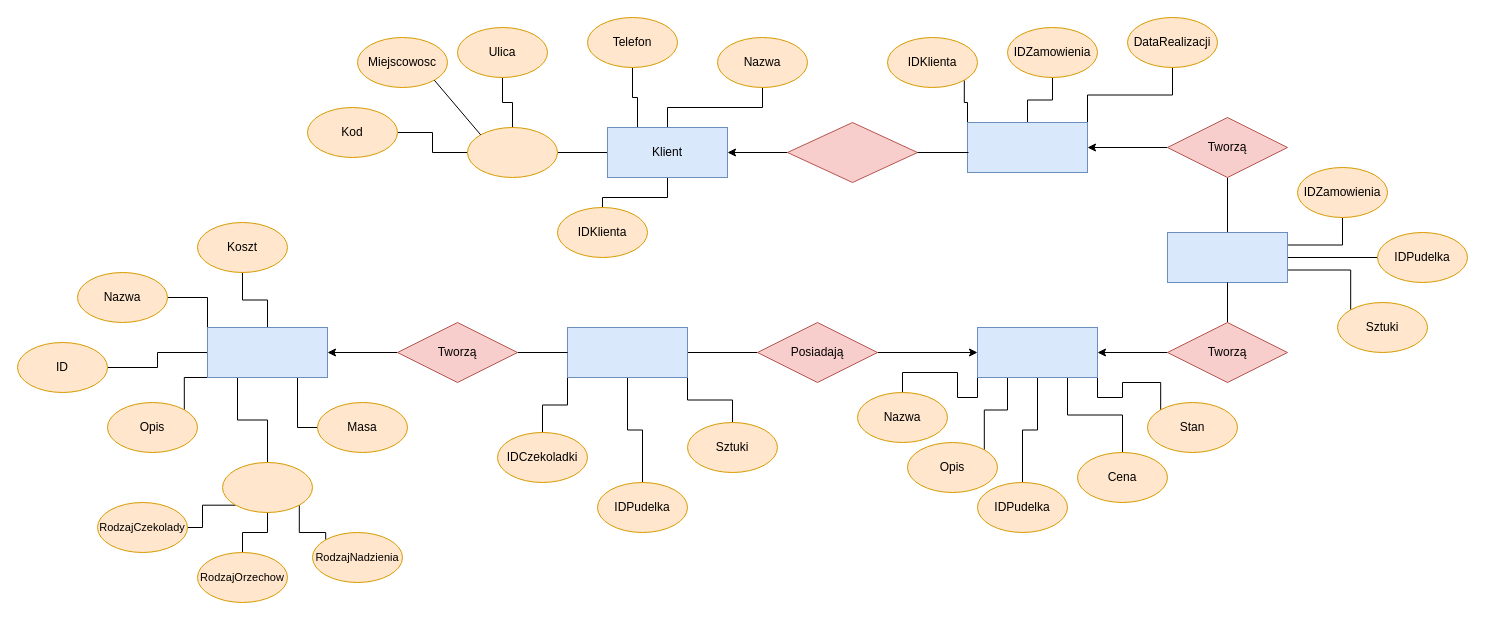
This 1485x620 diagram has some shape labels left out. Each missing label, with the centre of its shape:
"Adres" goes at (512,152).
"Artykuły" goes at (1227,257).
"Czekoladki" goes at (267,352).
"Pudełka" goes at (1037,352).
"Rodzaje" goes at (267,487).
"Składa" goes at (852,152).
"Zamówienie" goes at (1027,147).
"Zawartość" goes at (627,352).
